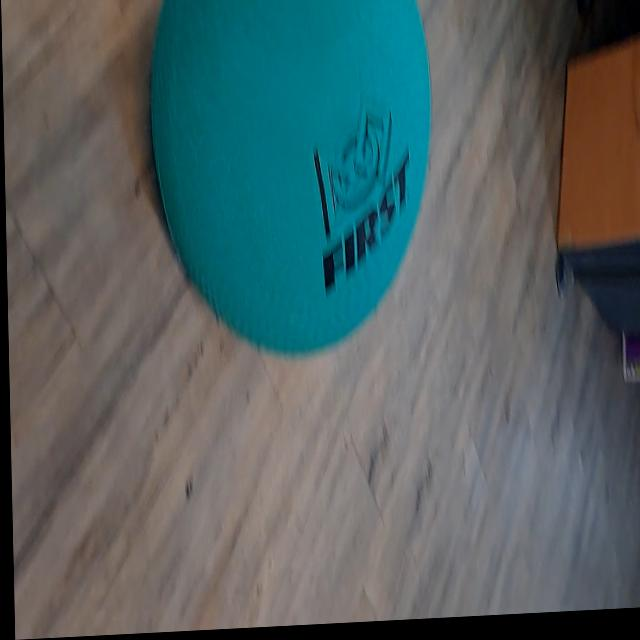ALGAE: (146, 0, 438, 365)
